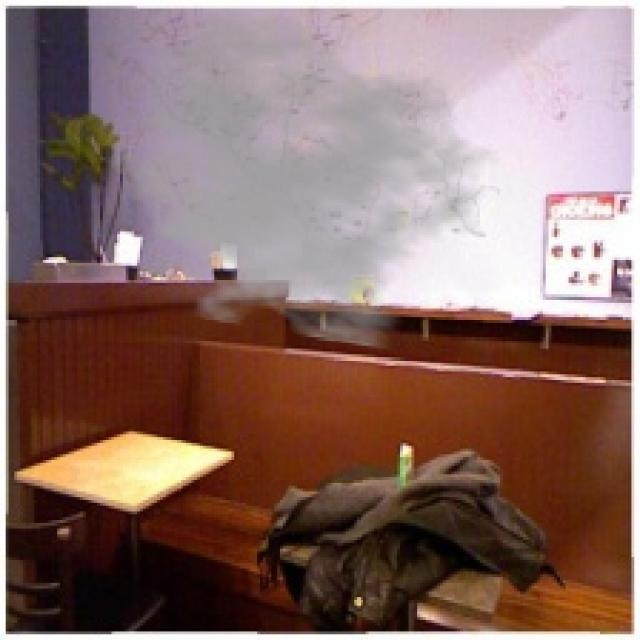smoke: (83, 9, 503, 352)
